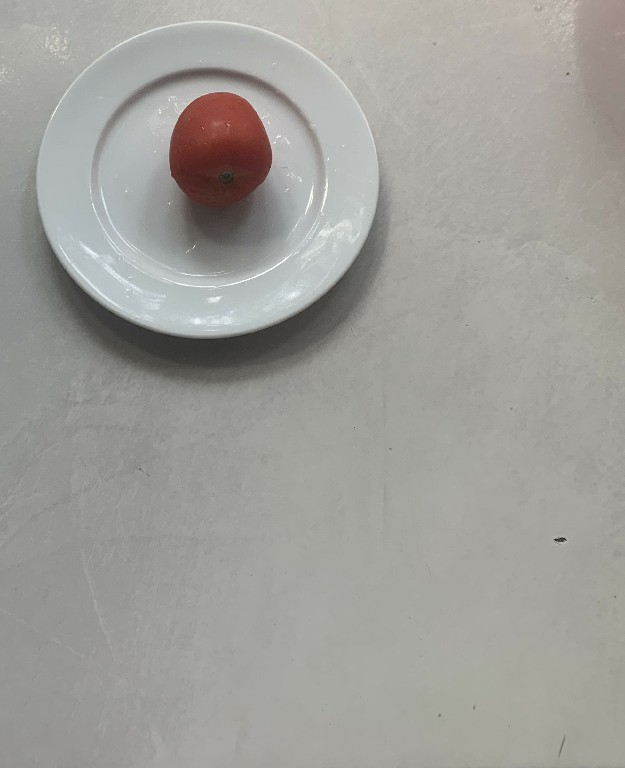OK: (164, 84, 271, 210)
